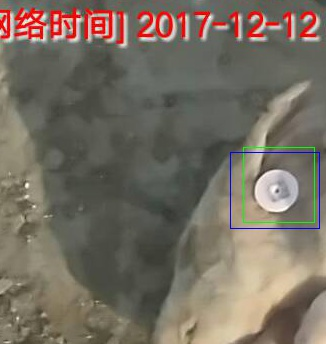text: (243, 147, 314, 222)
